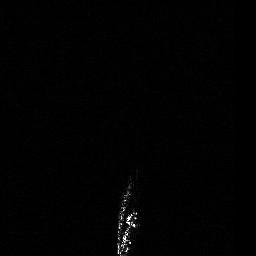ship: (116, 211, 139, 256)
